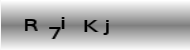7: (47, 25, 61, 39)
K: (83, 19, 98, 33)
R: (24, 18, 38, 32)
i: (60, 16, 65, 29)
j: (102, 19, 110, 36)
